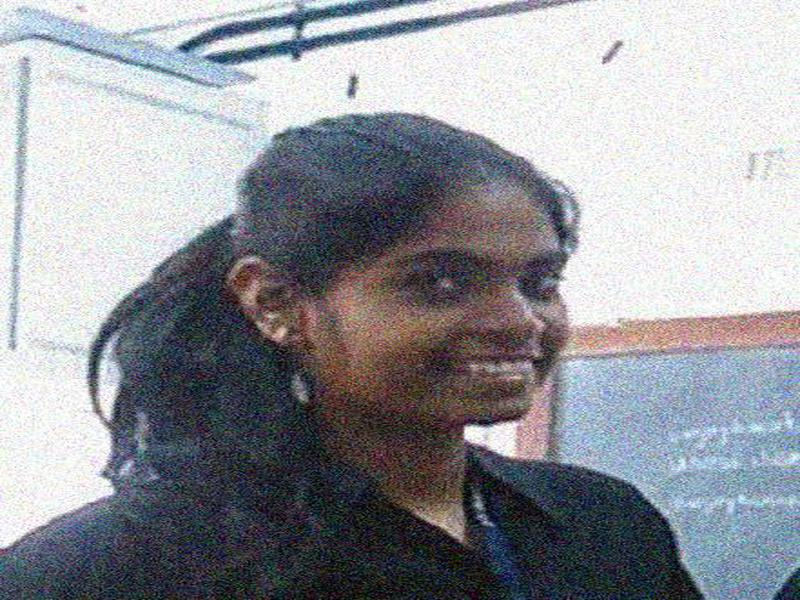without_mask: (306, 191, 578, 434)
